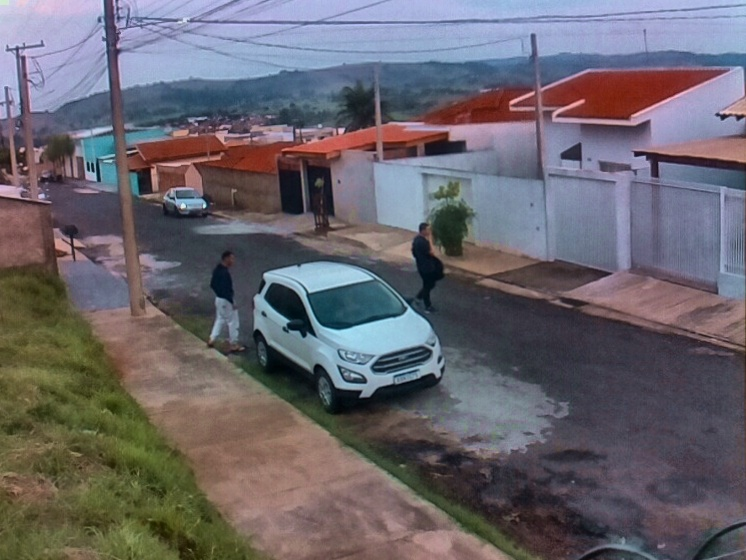person: (203, 250, 248, 354), (409, 221, 444, 315)
